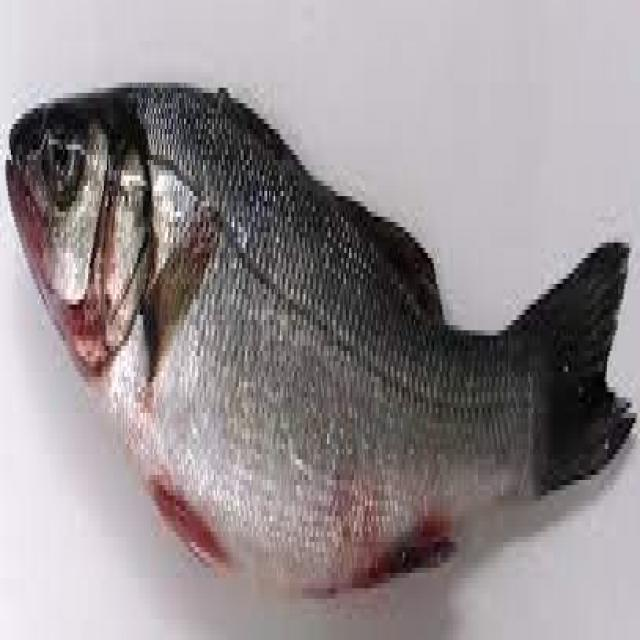EUS Disease: (2, 84, 632, 607), (275, 445, 483, 604)
